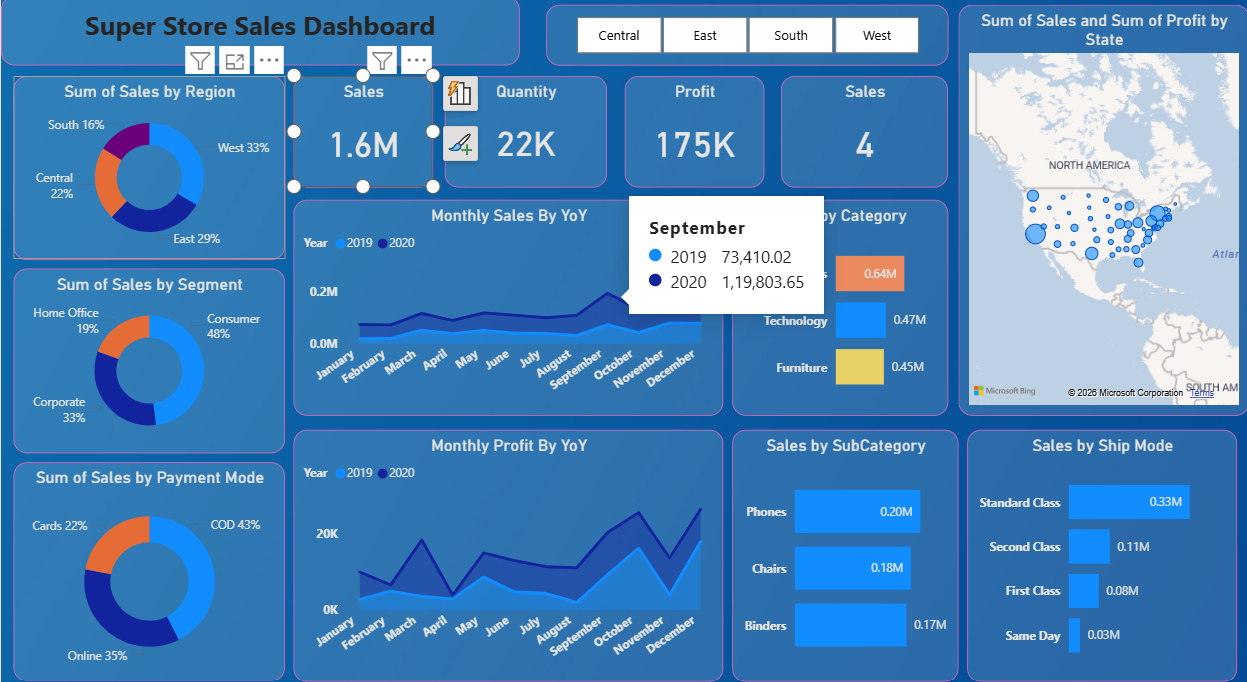

This screenshot's page, from the dashboard's own definition file:
{"tool":"powerbi","page":{"name":"Super Store Sales Dashboard","canvas":[1280,720],"ordinal":0},"visuals":[{"type":"clusteredBarChart","title":"Sales by Category","fields":{"Category":["SuperStore_Sales_Dataset.Category"],"Y":["Sum(SuperStore_Sales_Dataset.Sales)"]},"box":[750,208.9,221.4,221.4],"z":0},{"type":"clusteredBarChart","title":"Sales by SubCategory","fields":{"Category":["SuperStore_Sales_Dataset.Sub-Category"],"Y":["Sum(SuperStore_Sales_Dataset.Sales)"]},"box":[750,444.6,232.1,258.9],"z":1000},{"type":"clusteredBarChart","title":"Sales by Ship Mode","fields":{"Category":["SuperStore_Sales_Dataset.Ship Mode"],"Y":["Sum(SuperStore_Sales_Dataset.Sales)"]},"box":[991.1,444.6,276.8,258.9],"z":2000},{"type":"stackedAreaChart","title":"Monthly Sales  By YoY","fields":{"Y":["Sum(SuperStore_Sales_Dataset.Sales)"],"Category":["SuperStore_Sales_Dataset.Order Date.Variation.Date Hierarchy.Month"],"Series":["SuperStore_Sales_Dataset.Order Date.Variation.Date Hierarchy.Year"]},"box":[300,208.9,441.1,221.4],"z":3000},{"type":"stackedAreaChart","title":"Monthly Profit  By YoY","fields":{"Category":["SuperStore_Sales_Dataset.Order Date.Variation.Date Hierarchy.Month"],"Series":["SuperStore_Sales_Dataset.Order Date.Variation.Date Hierarchy.Year"],"Y":["Sum(SuperStore_Sales_Dataset.Profit)"]},"box":[300,444.6,441.1,258.9],"z":4000},{"type":"map","fields":{"Category":["SuperStore_Sales_Dataset.State"],"Size":["Sum(SuperStore_Sales_Dataset.Sales)"]},"box":[982.1,8.9,298.2,421.4],"z":5000},{"type":"donutChart","fields":{"Category":["SuperStore_Sales_Dataset.Segment"],"Y":["Sum(SuperStore_Sales_Dataset.Sales)"]},"box":[12.8,279.5,278.2,189.7],"z":6000},{"type":"donutChart","fields":{"Category":["SuperStore_Sales_Dataset.Payment Mode"],"Y":["Sum(SuperStore_Sales_Dataset.Sales)"]},"box":[12.5,478.6,278.6,225],"z":7000},{"type":"slicer","fields":{"Values":["SuperStore_Sales_Dataset.Region"]},"box":[558.9,8.9,412.5,62.5],"z":8000},{"type":"textbox","box":[0,0,532.1,71.4],"z":9000},{"type":"card","title":"Sales","fields":{"Values":["Sum(SuperStore_Sales_Dataset.Sales)"]},"box":[300,82.1,142.9,114.3],"z":10000},{"type":"card","title":"Profit","fields":{"Values":["Sum(SuperStore_Sales_Dataset.Profit)"]},"box":[639.3,82.1,142.9,114.3],"z":11000},{"type":"card","title":"Quantity","fields":{"Values":["Sum(SuperStore_Sales_Dataset.Quantity)"]},"box":[455.4,82.1,166.1,114.3],"z":12000},{"type":"card","title":"Sales","fields":{"Values":["Avg(SuperStore_Sales_Dataset.AvgDelivery)"]},"box":[800,82.1,171.4,114.3],"z":13000},{"type":"donutChart","fields":{"Y":["Sum(SuperStore_Sales_Dataset.Sales)"],"Category":["SuperStore_Sales_Dataset.Region"]},"box":[12.8,82.1,278.2,188.5],"z":14000}]}

Visuals, with their boxes in screenshot pixels (x1, y1, x2, y2), scaled from the page's 1280x720 canvas onto the 1247x682 screenshot:
"Sales by Category" clusteredBarChart: region(731, 198, 946, 408)
"Sales by SubCategory" clusteredBarChart: region(731, 421, 957, 666)
"Sales by Ship Mode" clusteredBarChart: region(966, 421, 1235, 666)
"Monthly Sales  By YoY" stackedAreaChart: region(292, 198, 722, 408)
"Monthly Profit  By YoY" stackedAreaChart: region(292, 421, 722, 666)
map - SuperStore_Sales_Dataset.State x Sum(SuperStore_Sales_Dataset.Sales): region(957, 8, 1246, 408)
donutChart - SuperStore_Sales_Dataset.Segment x Sum(SuperStore_Sales_Dataset.Sales): region(12, 265, 283, 444)
donutChart - SuperStore_Sales_Dataset.Payment Mode x Sum(SuperStore_Sales_Dataset.Sales): region(12, 453, 284, 666)
slicer - SuperStore_Sales_Dataset.Region: region(544, 8, 946, 68)
textbox: region(0, 0, 518, 68)
"Sales" card: region(292, 78, 431, 186)
"Profit" card: region(623, 78, 762, 186)
"Quantity" card: region(444, 78, 605, 186)
"Sales" card: region(779, 78, 946, 186)
donutChart - Sum(SuperStore_Sales_Dataset.Sales) x SuperStore_Sales_Dataset.Region: region(12, 78, 283, 256)
